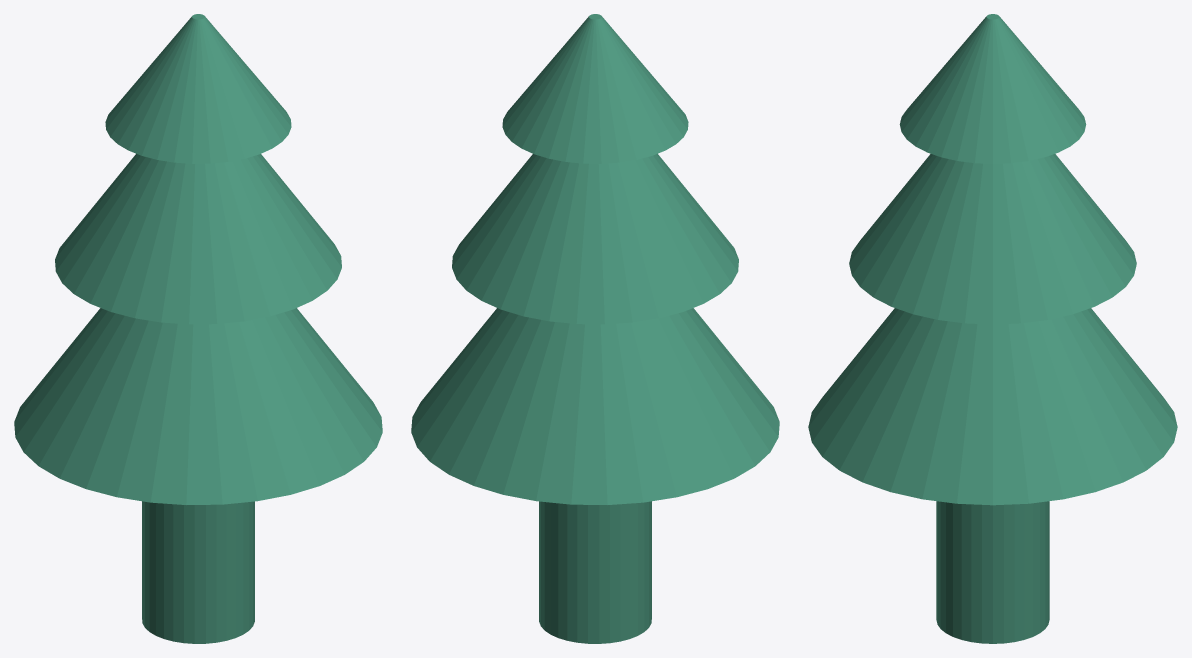
3 renders of one model, left to right at view 1: azimuth 30°, elevation 25°; view 2: azimuth 150°, elevation 25°; view 3: azimuth 270°, elevation 25°, orthographic.
Parts seen in each view (by area): view 1: 柱体.019; view 2: 柱体.019; view 3: 柱体.019.
Part boxes in pixels (left/top/right/bottom): 柱体.019: left=14, top=14, right=382, bottom=643; 柱体.019: left=411, top=14, right=779, bottom=643; 柱体.019: left=808, top=14, right=1177, bottom=643.
Bounding box in the file's own units: 0.0946 × 0.1705 × 0.0946.
